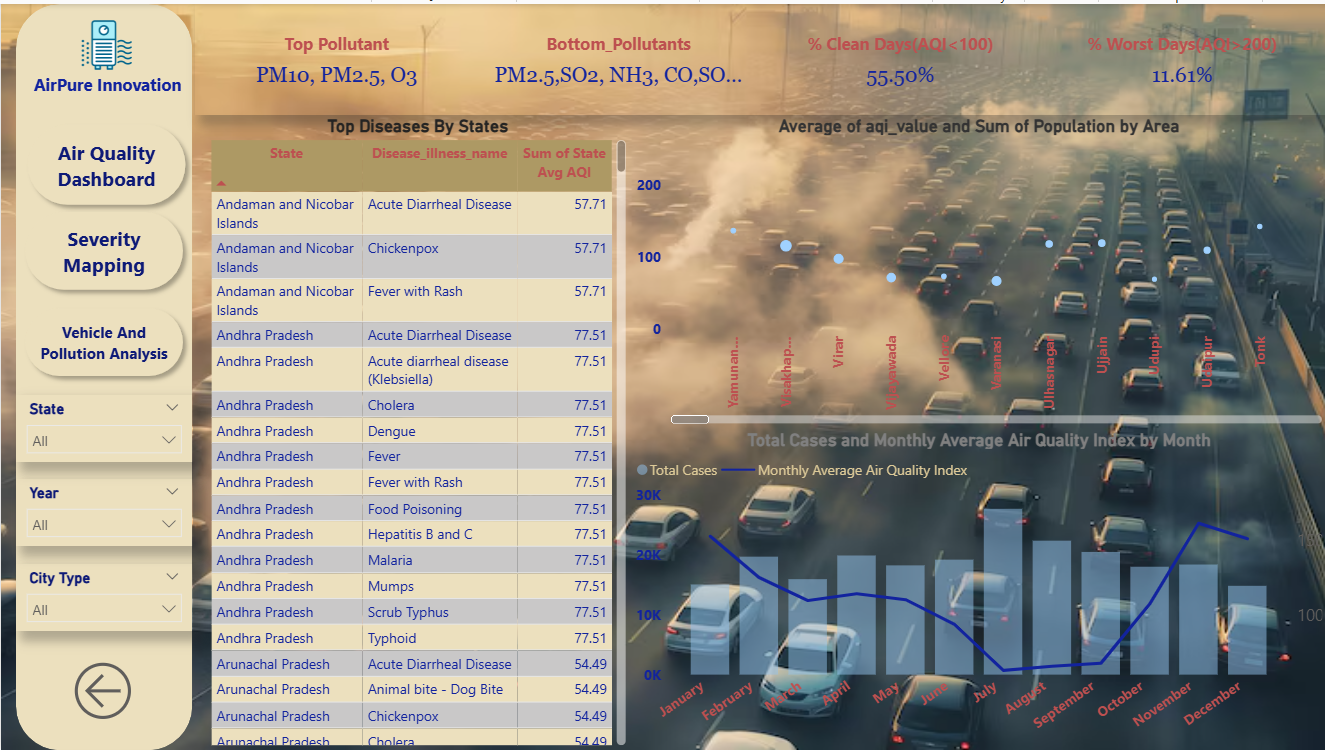

Layout of this report page (visuals, bound fields, positions):
{"tool":"powerbi","page":{"name":"Health Impact Correlation","canvas":[1280,720],"ordinal":3},"visuals":[{"type":"shape","box":[14.5,0,170.1,720.2],"z":0},{"type":"image","box":[66.4,0,71.2,79.6],"z":1000},{"type":"textbox","box":[26.5,61.5,170.1,45.8],"z":2000},{"type":"shape","box":[16.9,107.4,170.1,95.3],"z":3000},{"type":"shape","box":[14.5,191.8,170.1,92.9],"z":4000},{"type":"shape","box":[14.5,284.7,170.1,83.2],"z":5000},{"type":"slicer","fields":{"Values":["aqi.year"]},"box":[14.5,458.4,170.1,65.1],"z":6000},{"type":"slicer","fields":{"Values":["aqi.city type"]},"box":[14.5,540.5,170.1,65.1],"z":7000},{"type":"slicer","fields":{"Values":["aqi.state"]},"box":[14.5,377.6,170.1,65.1],"z":8000},{"type":"cardVisual","fields":{"Data":["Key Measures.Top Pollutant","Key Measures.Bottom2_Pollutants_AllStates","Key Measures.% Clean Days","Key Measures.% Worst Days"]},"box":[187,0,1093,107.4],"z":9000},{"type":"lineClusteredColumnComboChart","fields":{"Category":["Calendar.Month"],"Y":["Key Measures.Total Cases"],"Y2":["Key Measures.Monthly Average Air Quality Index"]},"box":[608,410,672,310],"z":10000},{"type":"scatterChart","fields":{"Y":["Avg(aqi.aqi_value)"],"X":["Area_Wise_Population.Area"],"Size":["Sum(Area_Wise_Population.Population)"]},"box":[608,107.4,672,302.8],"z":11000},{"type":"tableEx","title":"Top Diseases By States","fields":{"Values":["Disease_State_Summary.State","Disease_State_Summary.Disease_illness_name","Sum(Disease_State_Summary.State Avg AQI)"]},"box":[196.6,107.4,411.4,612.9],"z":12000},{"type":"actionButton","box":[63.9,628.6,71.2,68.8],"z":13000}]}

Visuals, with their boxes in screenshot pixels (x1, y1, x2, y2), scaled from the page's 1280x720 canvas onto the 1325x750 screenshot:
shape: (15, 0, 191, 749)
image: (69, 0, 142, 83)
textbox: (27, 64, 204, 112)
shape: (17, 112, 194, 211)
shape: (15, 200, 191, 297)
shape: (15, 297, 191, 383)
slicer - aqi.year: (15, 478, 191, 545)
slicer - aqi.city type: (15, 563, 191, 631)
slicer - aqi.state: (15, 393, 191, 461)
cardVisual - Key Measures.Top Pollutant x Key Measures.Bottom2_Pollutants_AllStates: (194, 0, 1324, 112)
lineClusteredColumnComboChart - Calendar.Month x Key Measures.Total Cases: (629, 427, 1324, 749)
scatterChart - Avg(aqi.aqi_value) x Area_Wise_Population.Area: (629, 112, 1324, 427)
"Top Diseases By States" tableEx: (204, 112, 629, 749)
actionButton: (66, 655, 140, 726)
